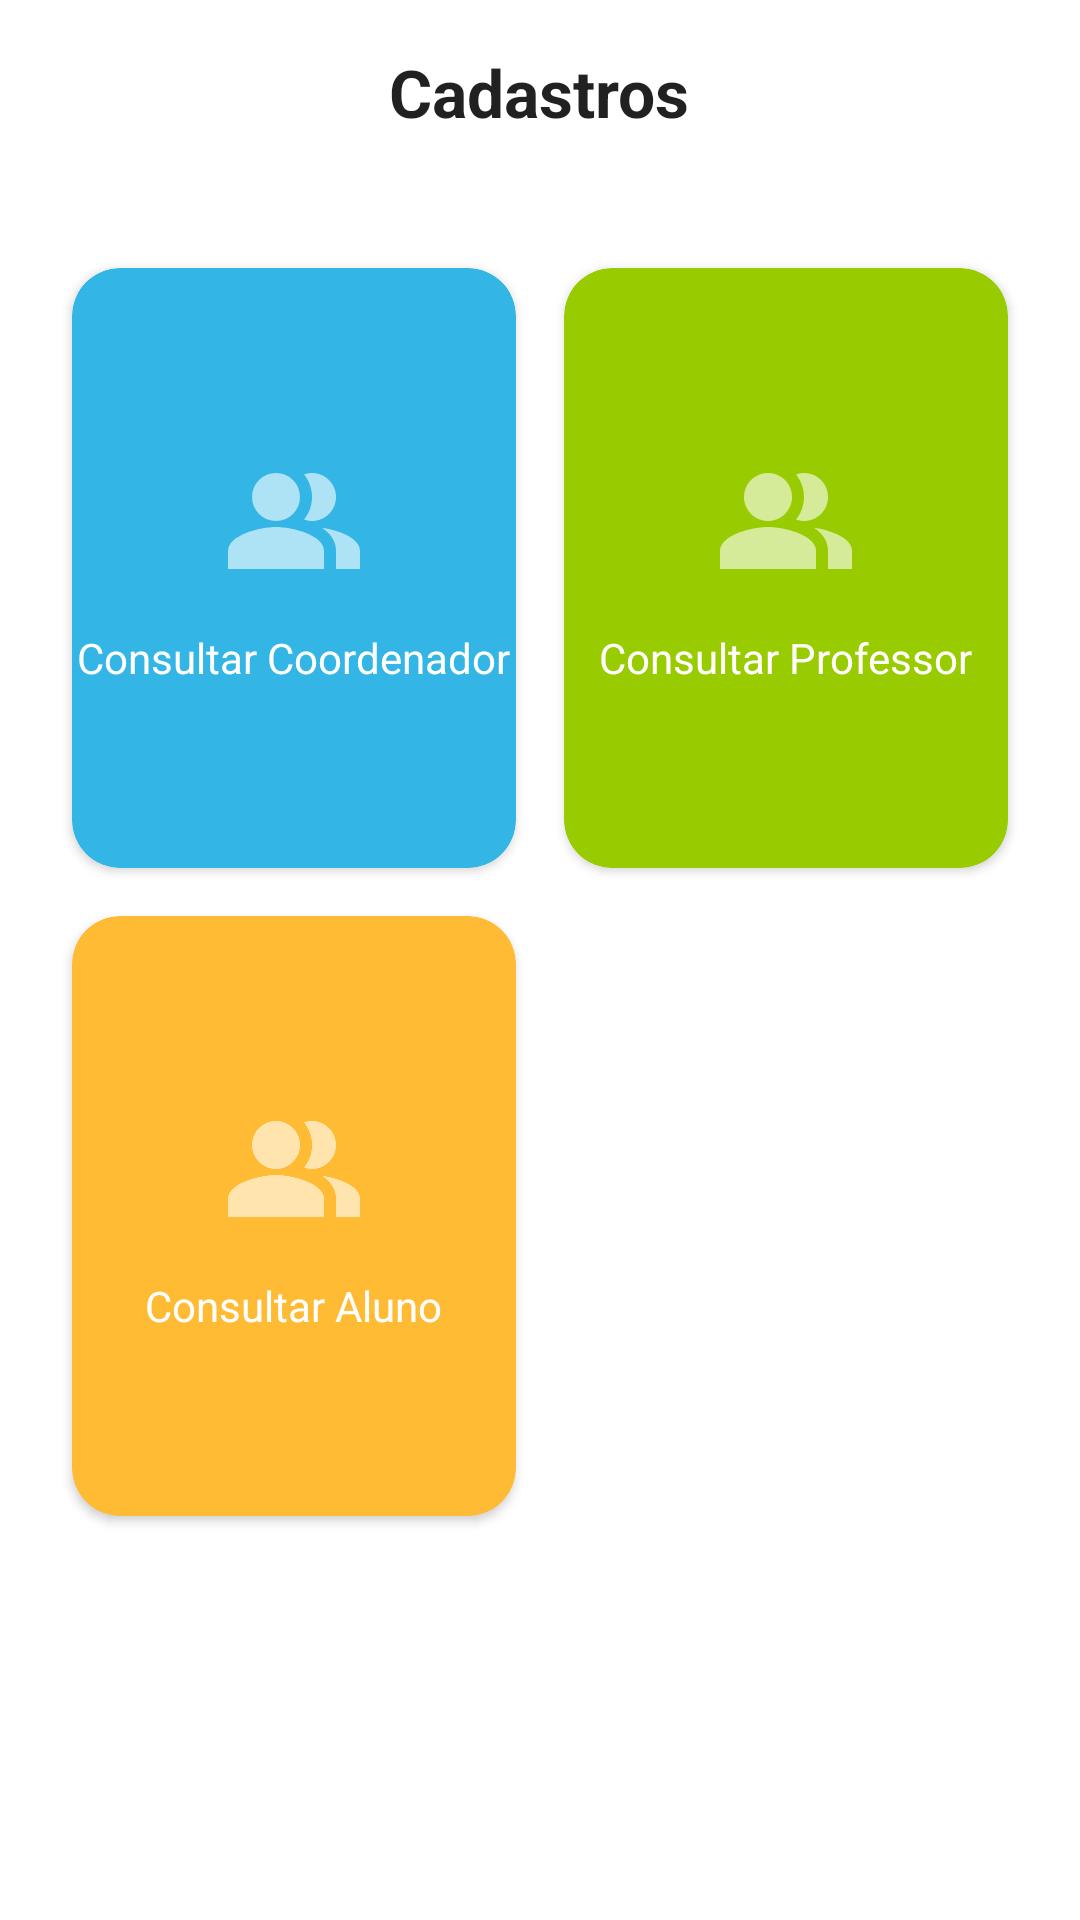

Where icons sit on this 1080×1920 app screen, as (x1, y1, x2, y2):
people: (228, 473, 360, 569), (720, 473, 852, 569), (228, 1121, 360, 1217)
